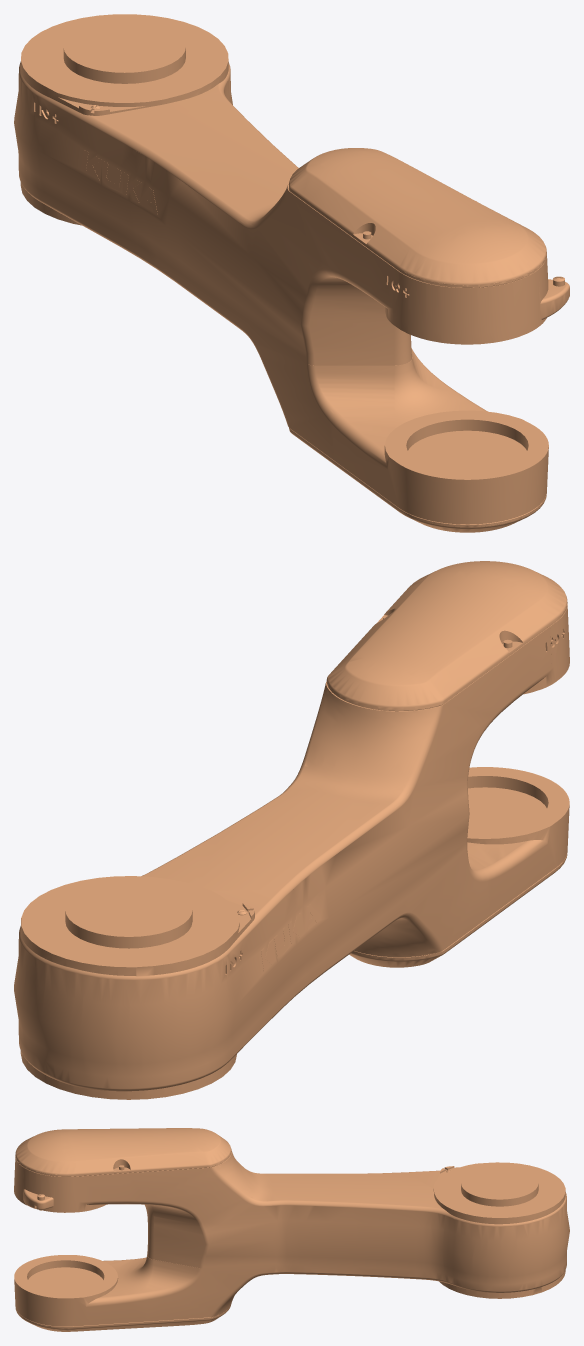
3 views of the same model, one above another, from view 1: azimuth 30°, elevation 25°; view 2: azimuth 150°, elevation 25°; view 3: azimuth 270°, elevation 25° (orthographic). The views are drawn at different scales.
Parts seen in each view (by area): view 1: /Link2/Link2_002-mesh/0; view 2: /Link2/Link2_002-mesh/0; view 3: /Link2/Link2_002-mesh/0.
Part boxes in pixels (x1,y1,x2,y2): /Link2/Link2_002-mesh/0: [14, 14, 569, 532]; /Link2/Link2_002-mesh/0: [14, 561, 569, 1099]; /Link2/Link2_002-mesh/0: [14, 1128, 569, 1331].
Size of the model in its own units: 0.1809 by 0.2601 by 0.7173.
